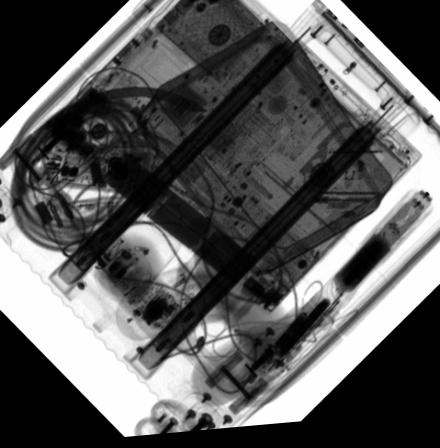Baton: (271, 195, 433, 370)
